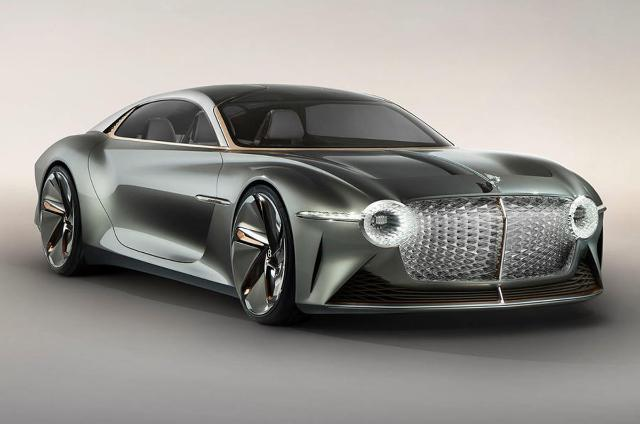bentley: (34, 83, 606, 325)
